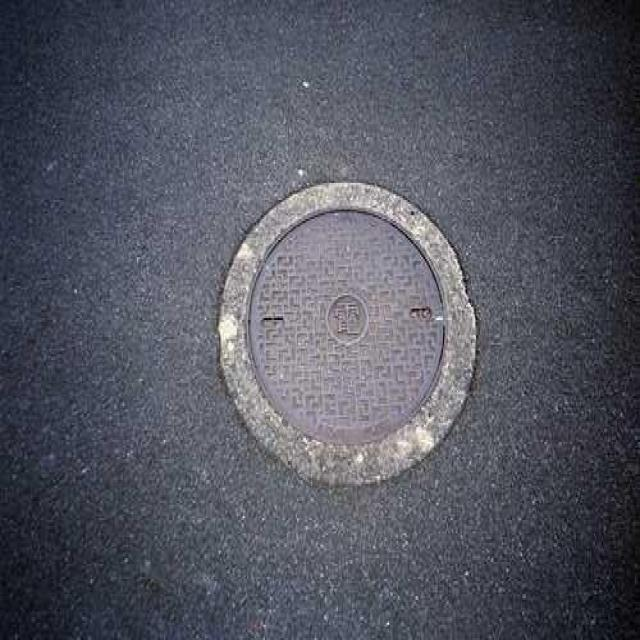manhole: (214, 181, 481, 490)
